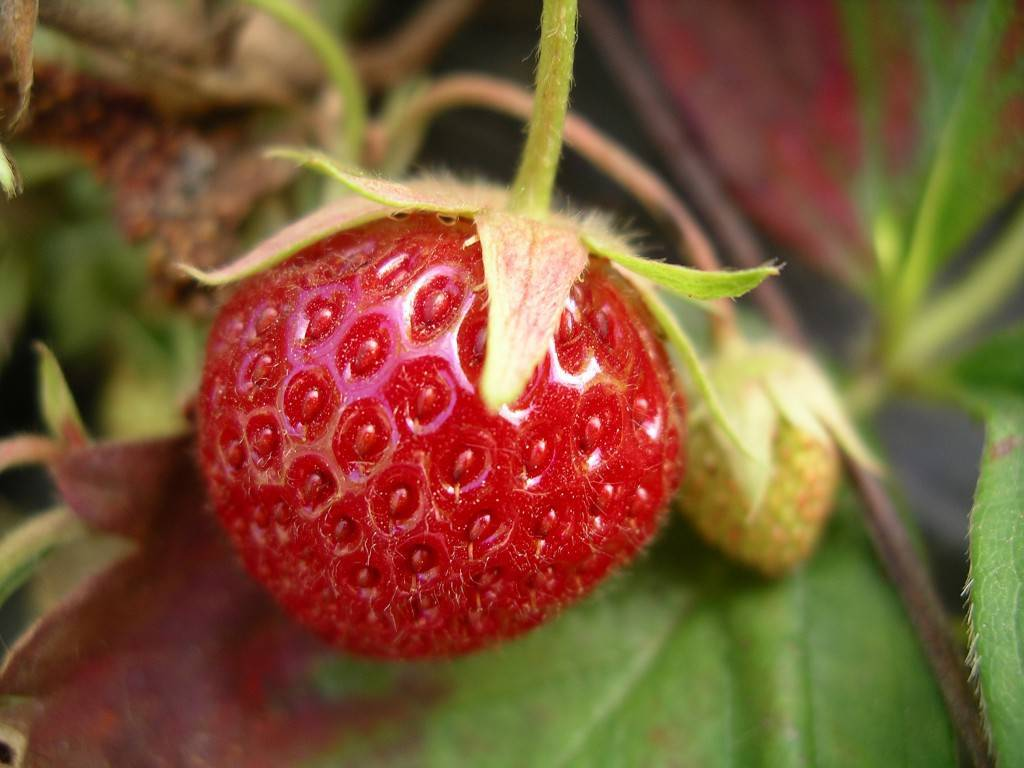ripe: (196, 194, 697, 670)
unripe: (662, 334, 848, 579)
